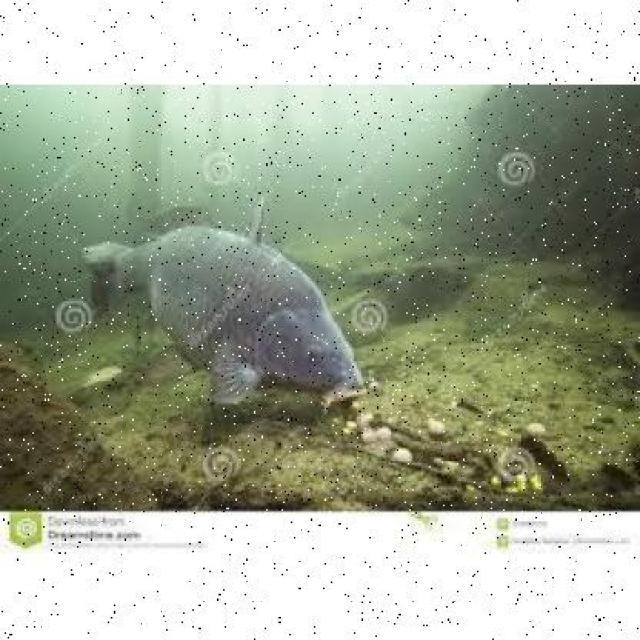ikan-mas: (90, 202, 366, 407)
